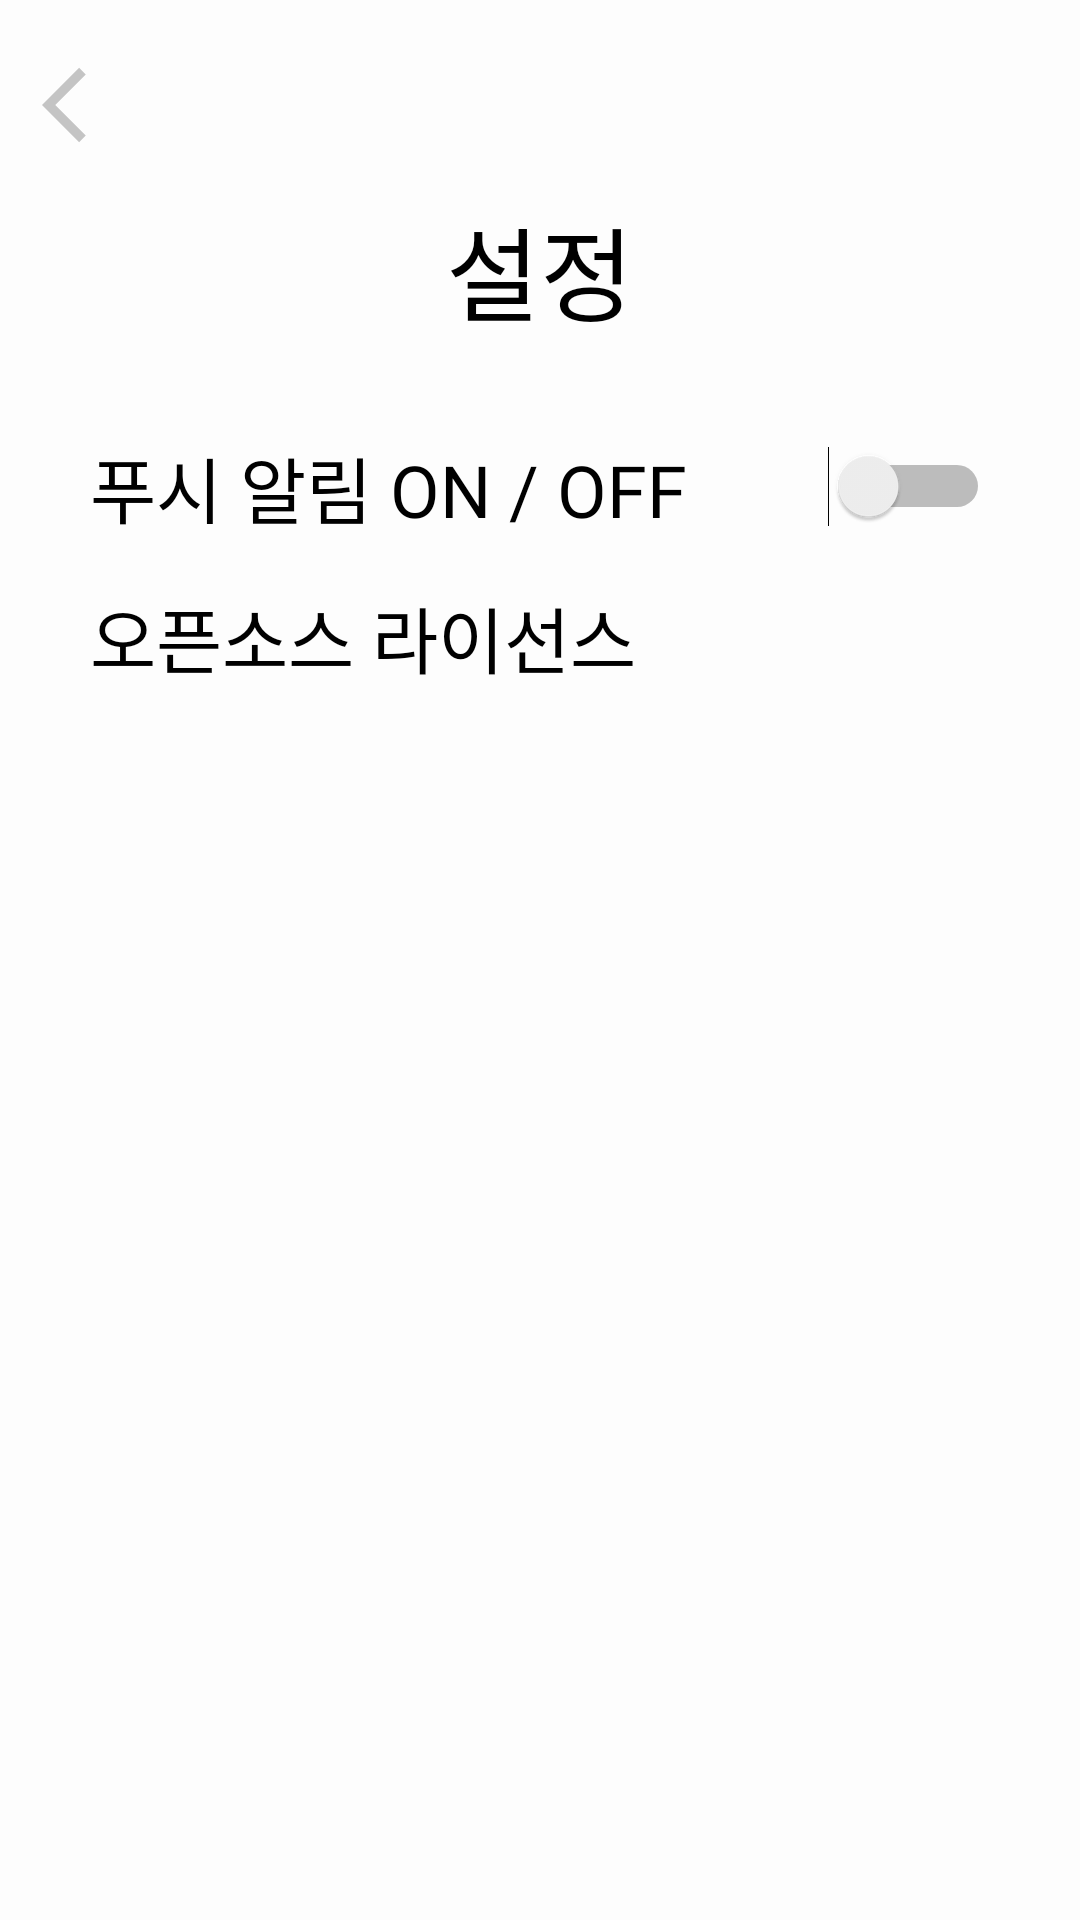

Icons on this 1080px x 1920px Android screen, each with its box as bbox=(x1, y1, x2, y2):
back: bbox=(42, 68, 86, 142)
